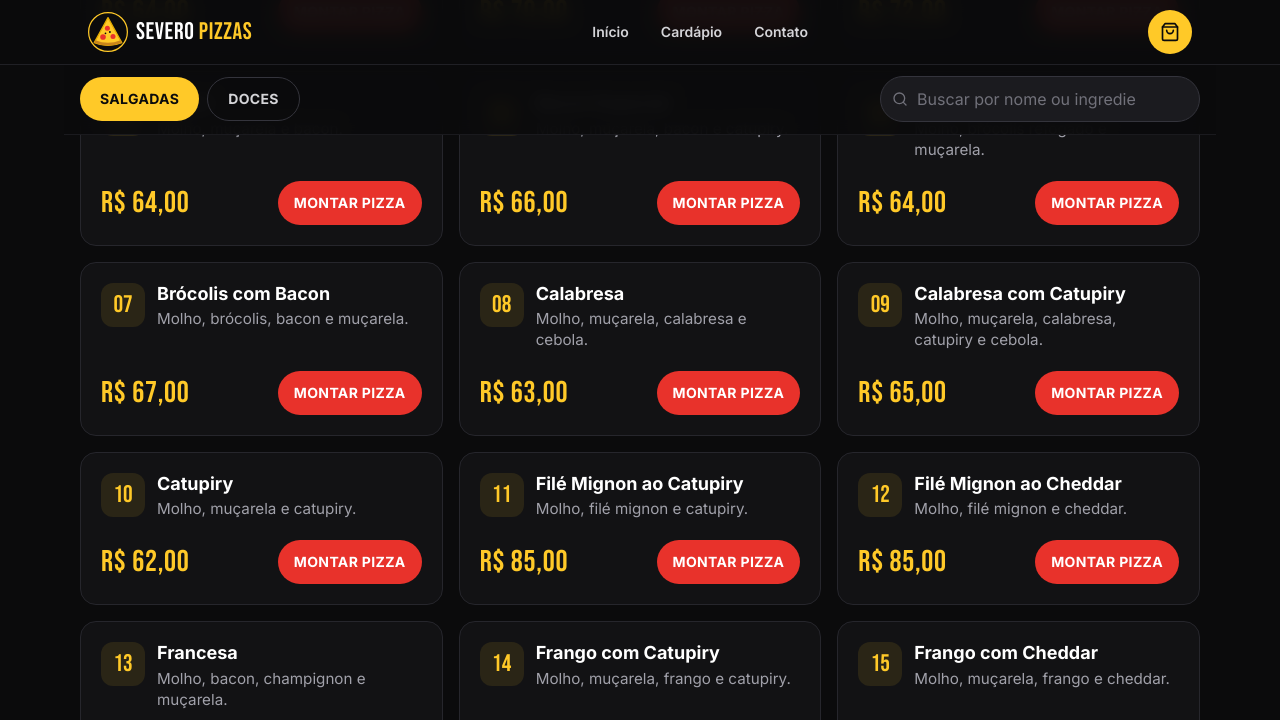
Test case: barra fixa do carrinho › mostra um aviso visível ao adicionar
(page scrolled)
Click the button with aria-label "Montar pizza Calabresa" at (728, 393), box [656, 371, 800, 415]
(page scrolled)
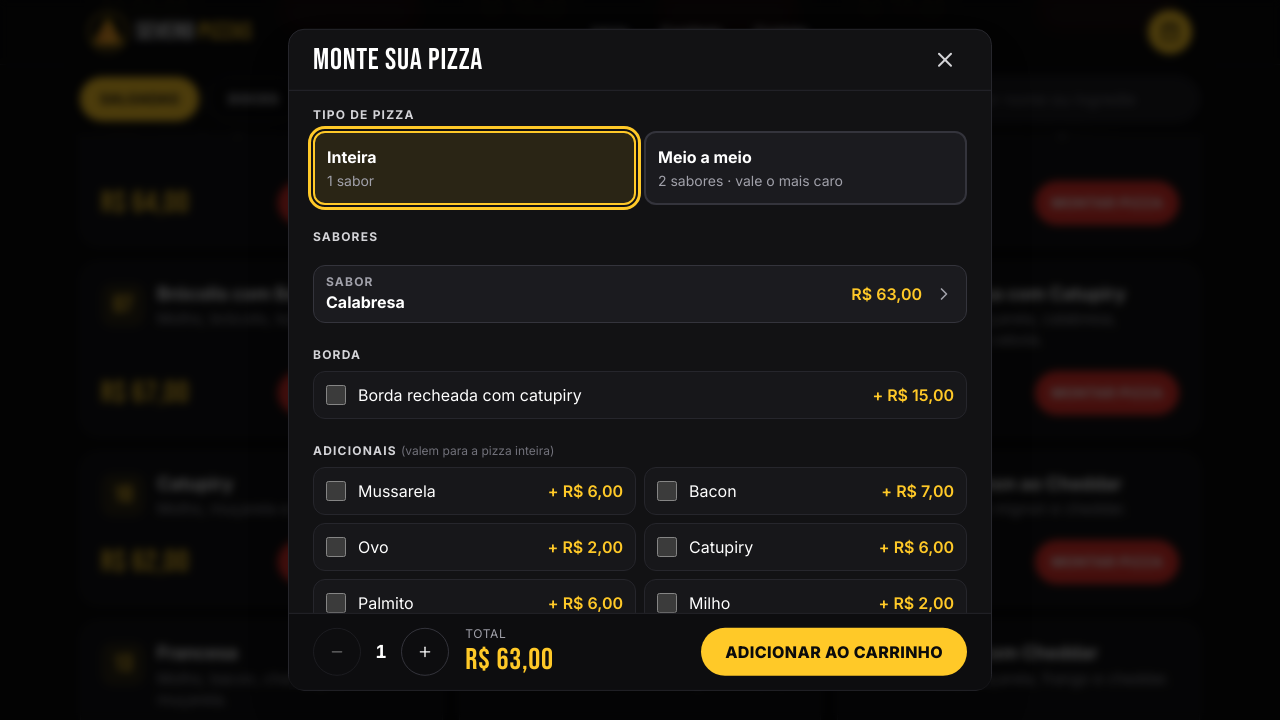
Click the button "Adicionar ao carrinho" at (834, 652), box [701, 628, 967, 676]
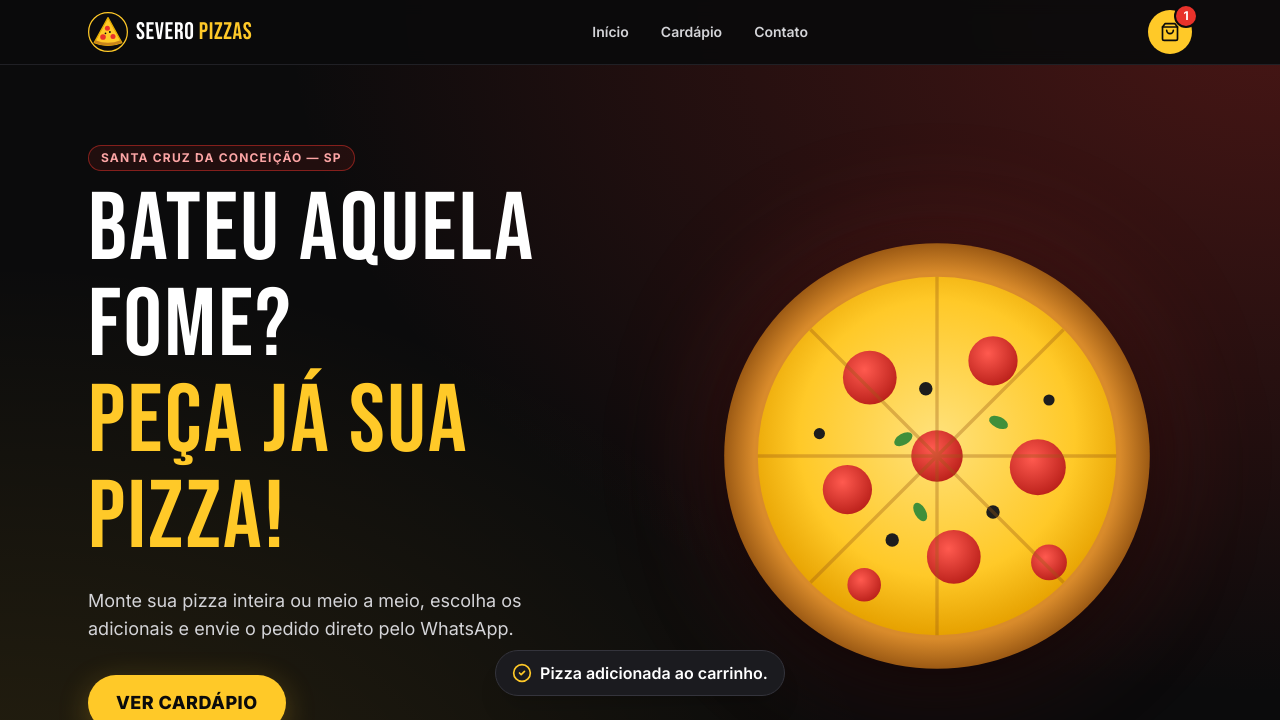
expect the text "Pizza adicionada ao carrinho." is shown: met, box [495, 650, 785, 696]
